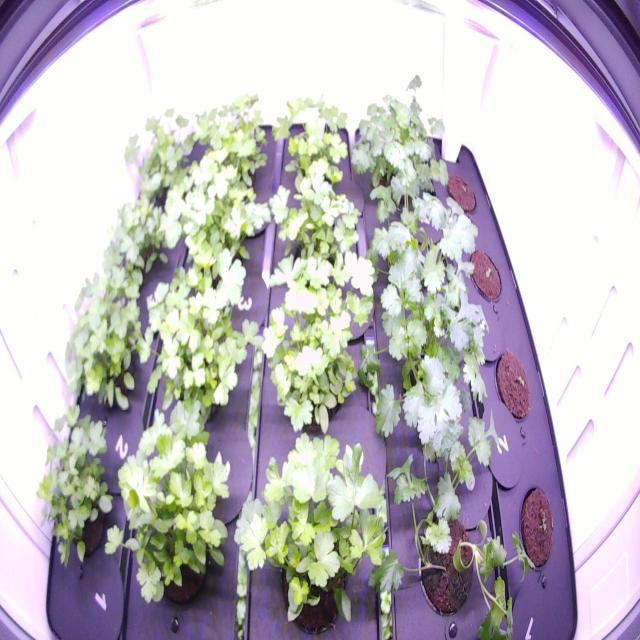germination: (490, 340, 539, 432), (515, 478, 558, 578), (458, 238, 512, 308), (439, 165, 484, 226)
